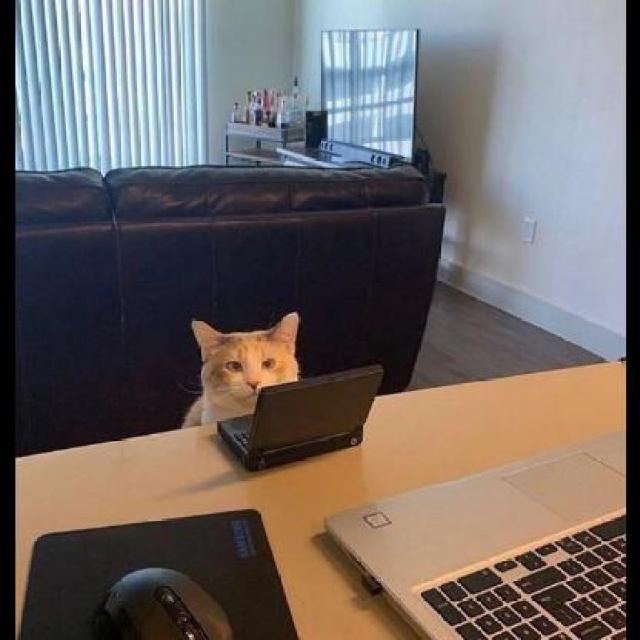unauthorized: (180, 310, 300, 428)
